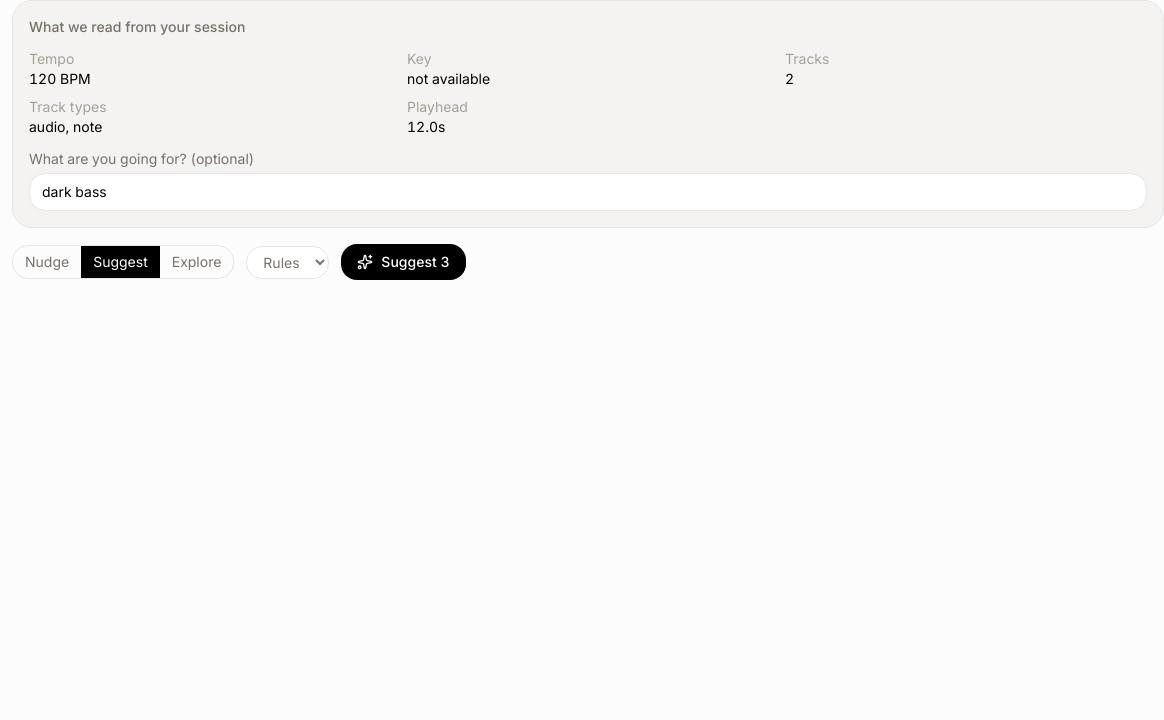
Test: ContinuationPanel › skip removes the card and records feedback
Click the button "Suggest 3".
click(404, 262)  # box [341,244,466,280]
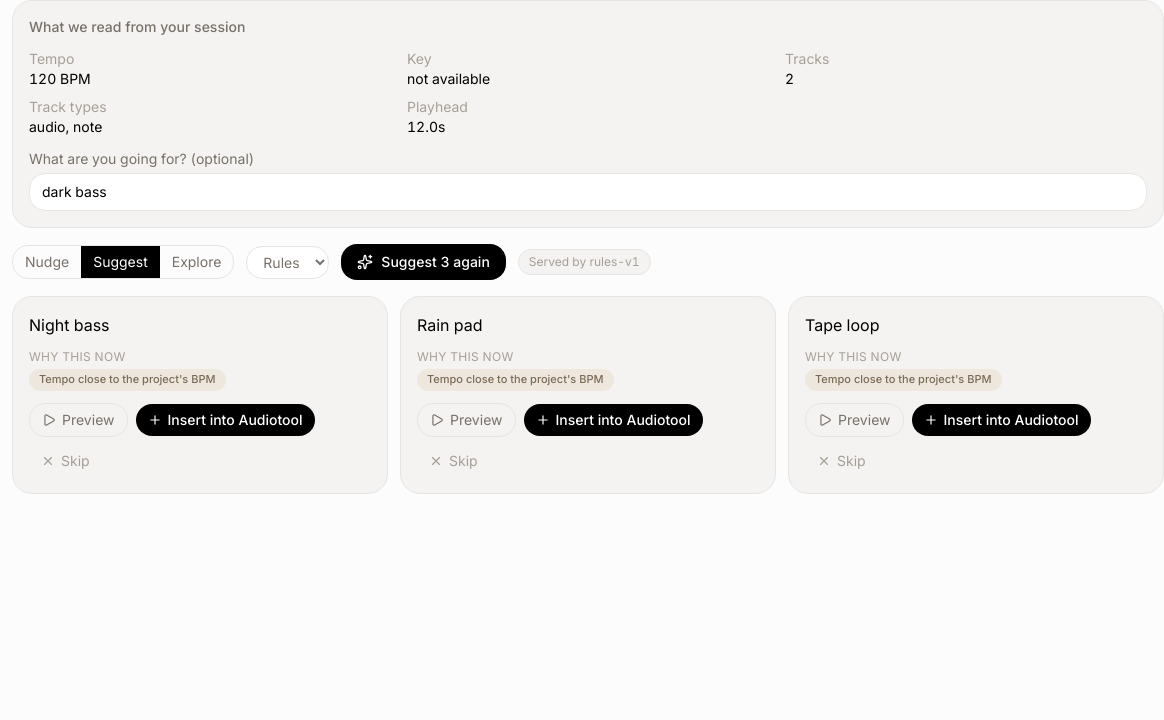
Result: the heading "Night bass" is shown at [29,313,110,337]
Click the button "Skip" below "Night bass".
click(65, 461)  # box [29,445,102,477]
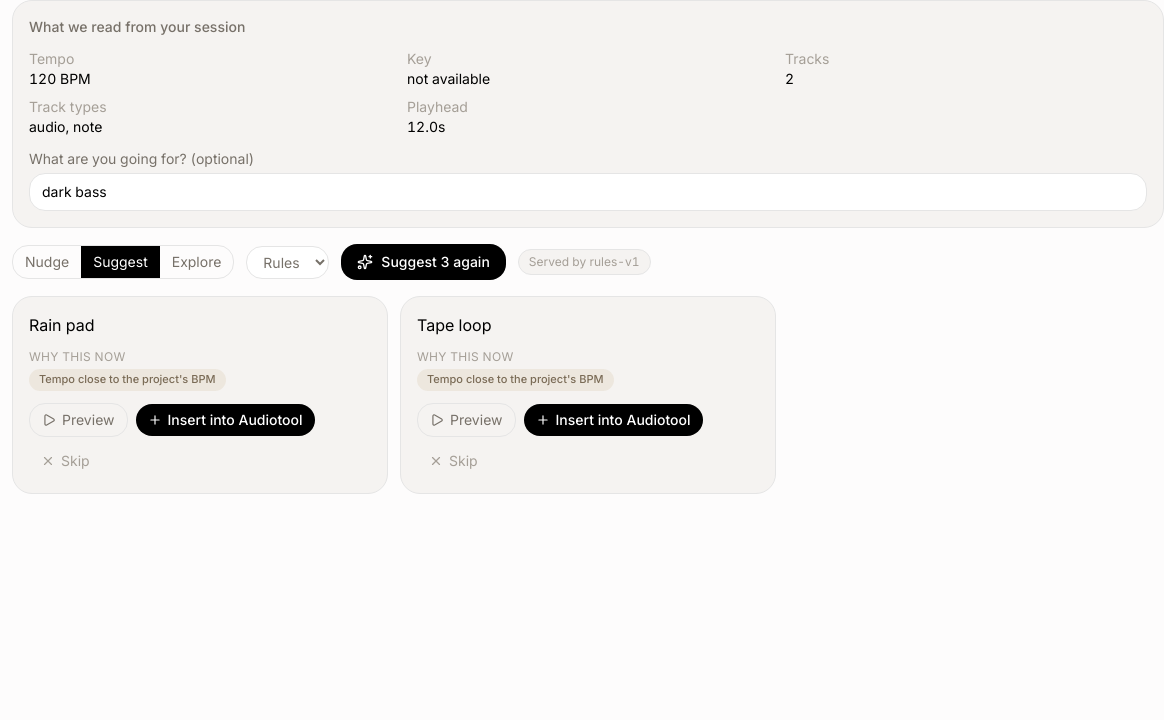
Result: the heading "Night bass" is gone
